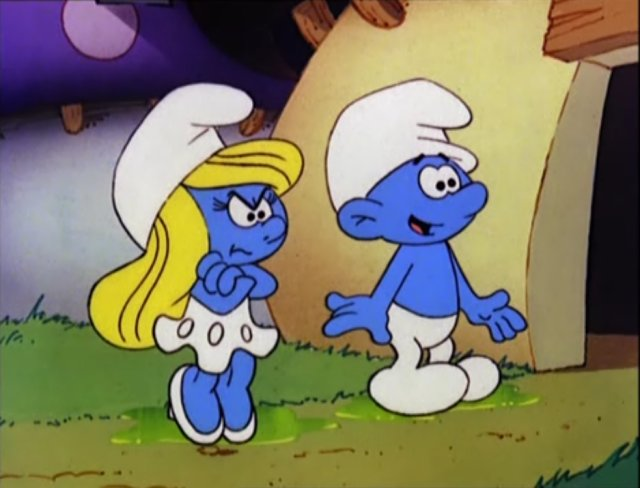smurf: (84, 77, 305, 447), (316, 74, 528, 414)
